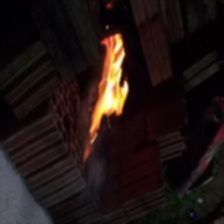fire: (75, 20, 139, 169)
